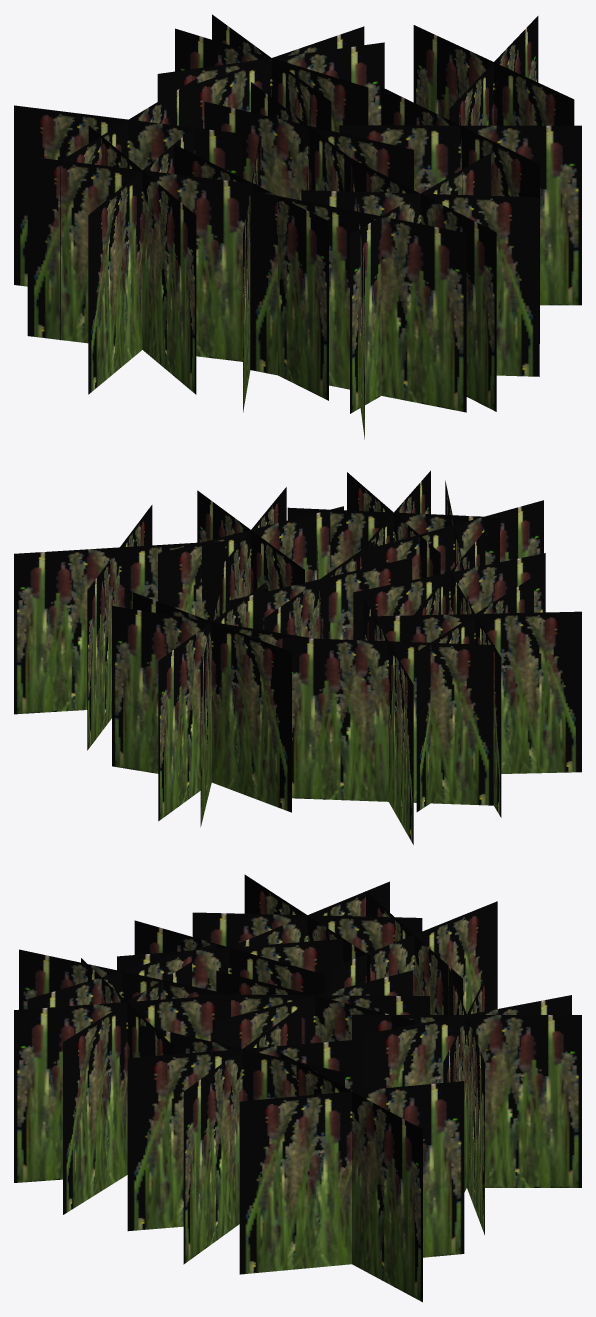
The model's file is rushes.obj.
The picture shows the model from 3 angles, top to bottom: view 1: azimuth 30°, elevation 25°; view 2: azimuth 150°, elevation 25°; view 3: azimuth 270°, elevation 25°; orthographic projection. The views are drawn at different scales.
Visible parts, largest first — view 1: Plane; view 2: Plane; view 3: Plane.
Boxes of the visible parts, x1,y1,x2,y2 form: Plane: [14, 14, 581, 439]; Plane: [14, 470, 581, 844]; Plane: [14, 874, 581, 1302].
Bounding box in the file's own units: 0.4078 × 0.129 × 0.3838.
1 material, 1 textured.
